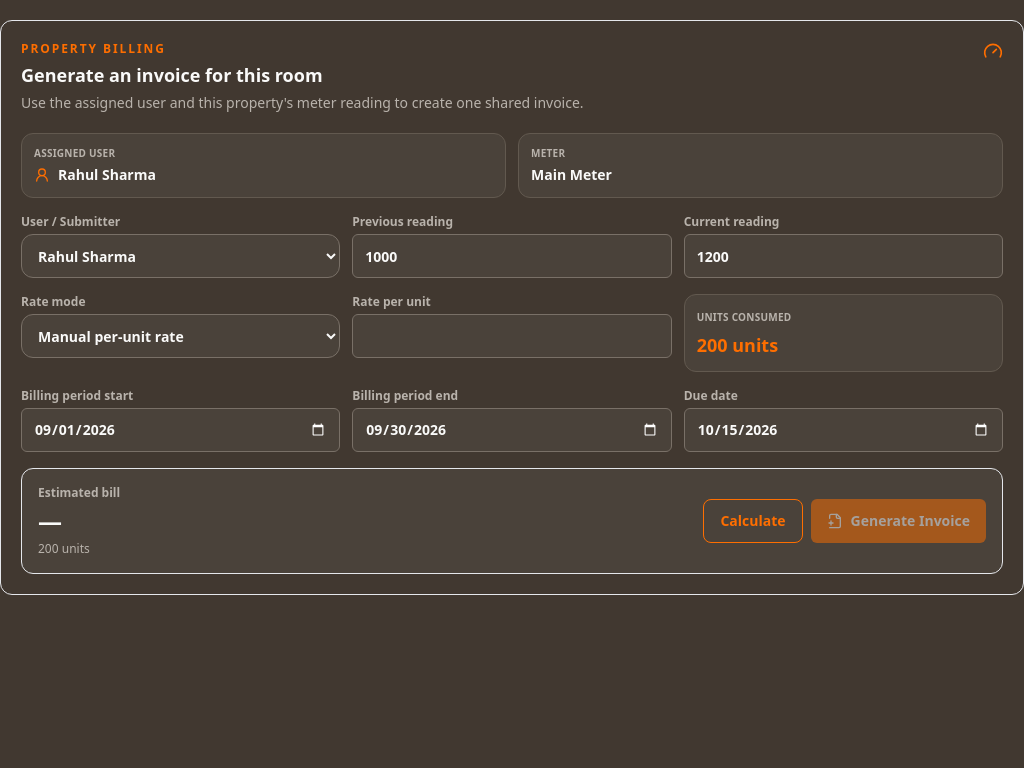
Scenario: PropertyBilling › uses the selected submitter's own latest reading
Select "Asha Rao" in the dropdown labelled "User / Submitter": x=181, y=256 [21, 234, 340, 278]
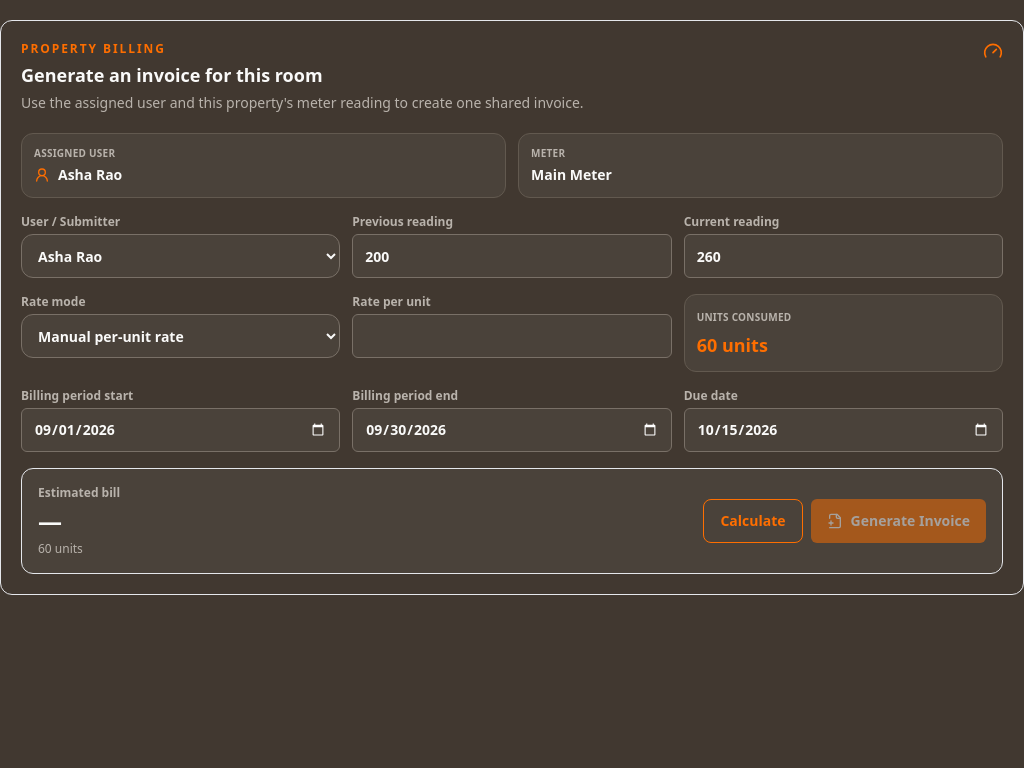
Check: the field labelled "Previous reading" holds "200", box [352, 234, 672, 278]
Check: the field labelled "Current reading" holds "260", box [684, 234, 1003, 278]
